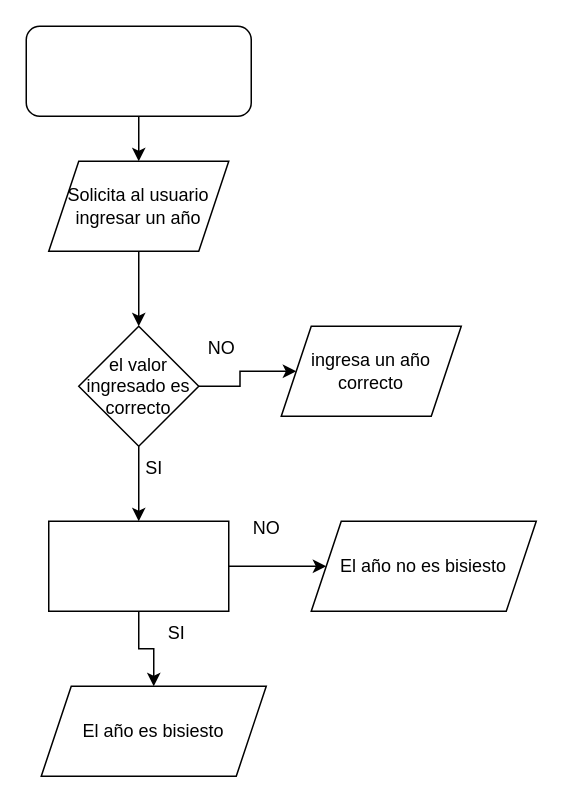
The diagram is 563 pixels wide and 803 high, and some of its shapes have lost their labels. The box of each missing label's shape, as (x1, y1, x2, y2) in pixels:
Determinar si un año es bisiesto: (25, 25, 251, 116)
el año es divisible entre 4 con residuo 0: (47, 520, 229, 611)
